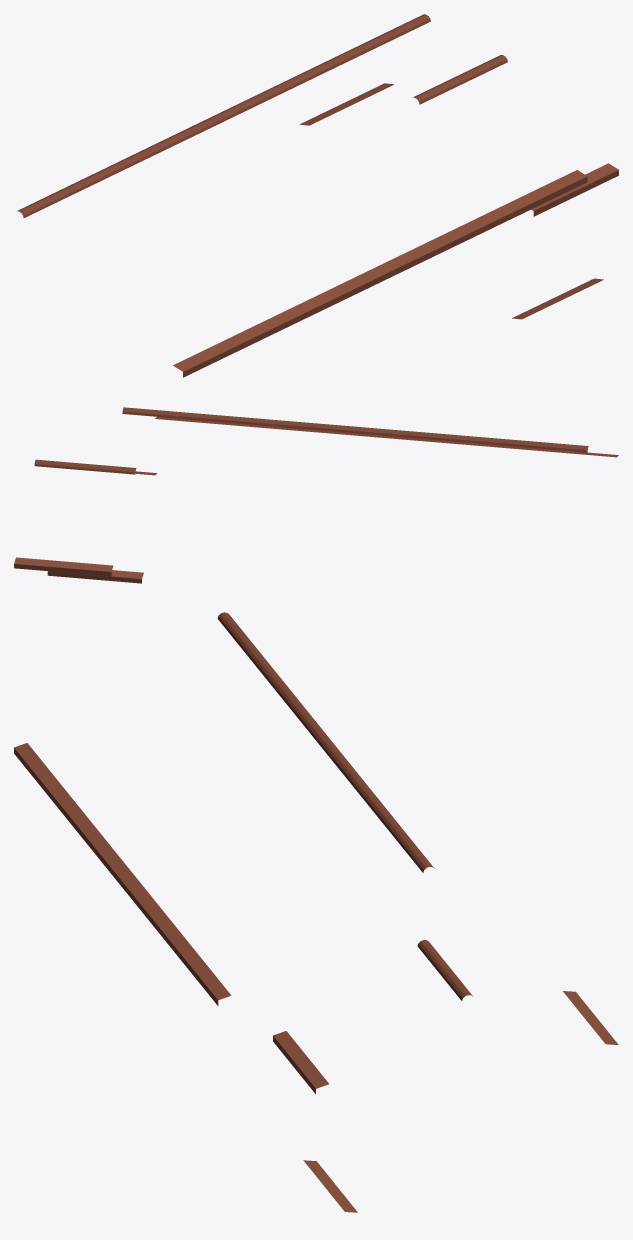
The picture shows the model from 3 angles, top to bottom: view 1: azimuth 30°, elevation 25°; view 2: azimuth 150°, elevation 25°; view 3: azimuth 270°, elevation 25°; orthographic projection. The views are drawn at different scales.
Visible parts, largest first — view 1: detail; view 2: detail; view 3: detail.
Boxes of the visible parts, x1,y1,x2,y2 form: detail: [17, 14, 618, 377]; detail: [14, 407, 618, 583]; detail: [14, 612, 618, 1212].
Bounding box in the file's own units: 17.38 × 7.23 × 13.69.
